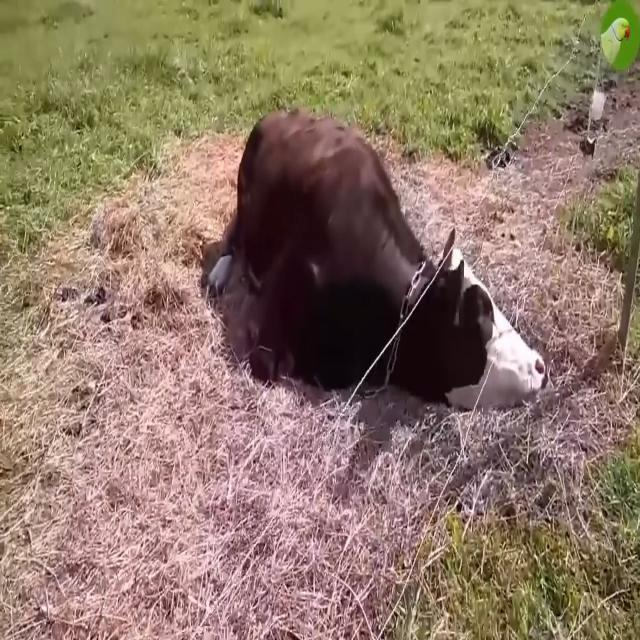cow: (202, 111, 548, 408)
